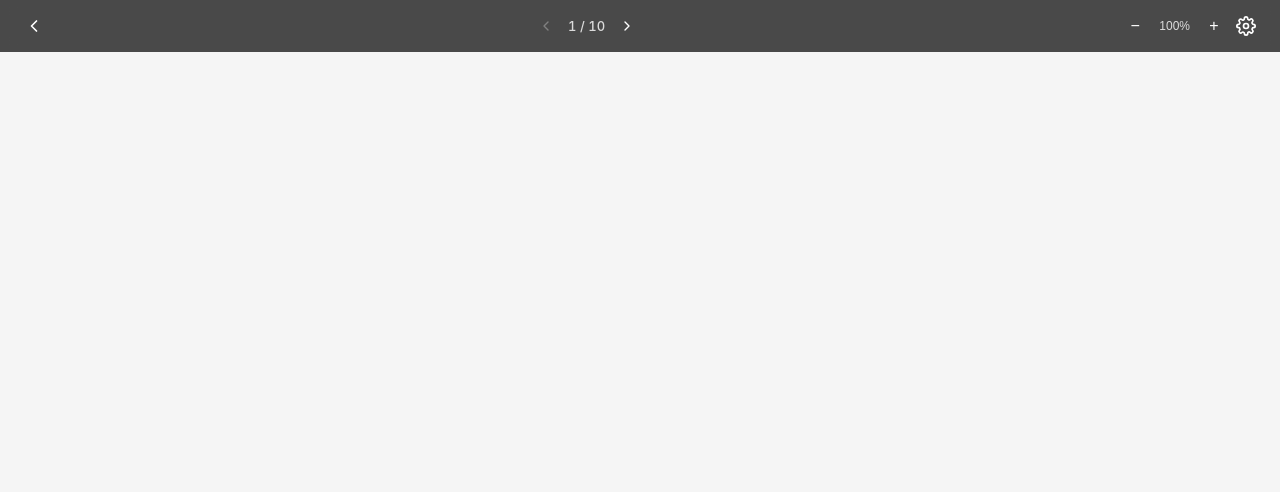
Test case: ReaderToolbar › opens settings panel when gear button clicked
The image size is (1280, 492).
Click the button titled "设置" at coordinates (1246, 26), box left=1228, top=8, right=1264, bottom=44
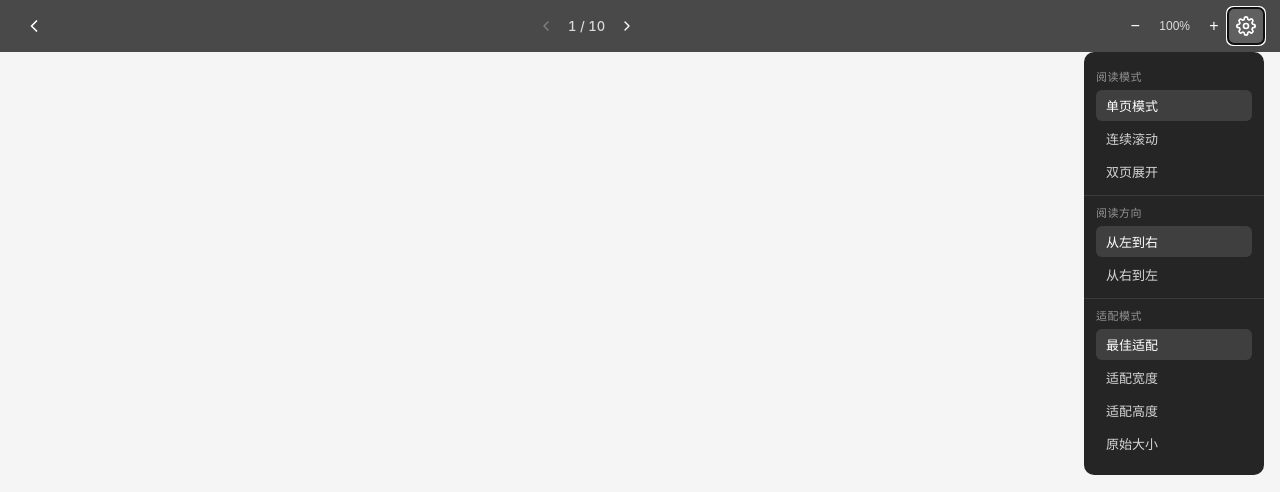
Expected: the text "阅读模式" is shown, left=1096, top=70, right=1142, bottom=84
Expected: the text "阅读方向" is shown, left=1096, top=206, right=1142, bottom=220
